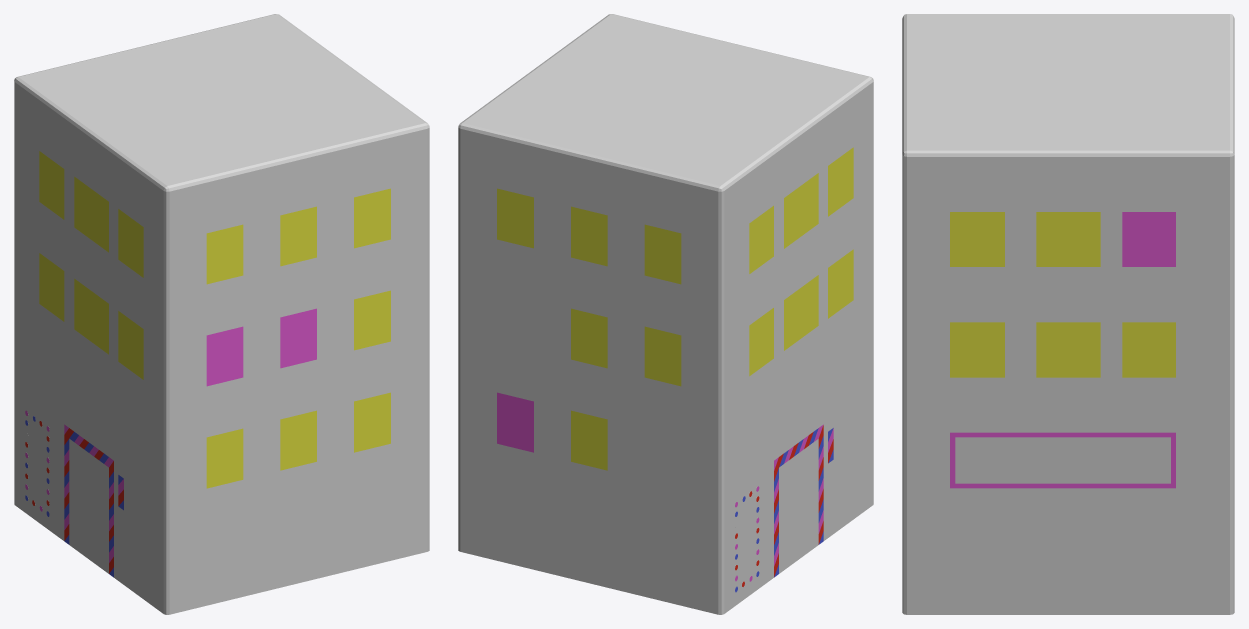
Rendered from barber.fbx.
3 renders of one model, left to right at view 1: azimuth 30°, elevation 25°; view 2: azimuth 150°, elevation 25°; view 3: azimuth 270°, elevation 25°, orthographic. The views are drawn at different scales.
Parts seen in each view (by area): view 1: Cube; view 2: Cube; view 3: Cube.
Part boxes in pixels (bbox=[...]): Cube: bbox=[14, 14, 429, 614]; Cube: bbox=[458, 14, 873, 614]; Cube: bbox=[902, 14, 1234, 614].
Bounding box in the file's own units: 6 × 6 × 9.22.
